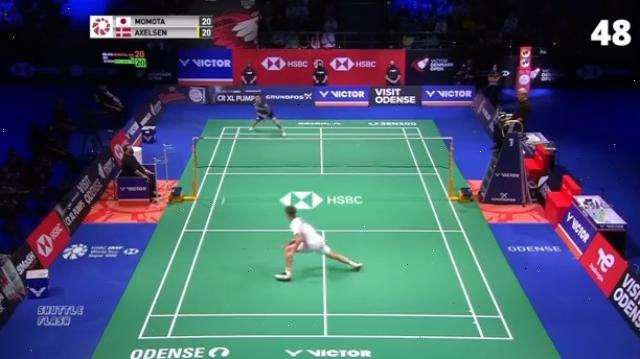Shuttlecock: (216, 198, 228, 207)
